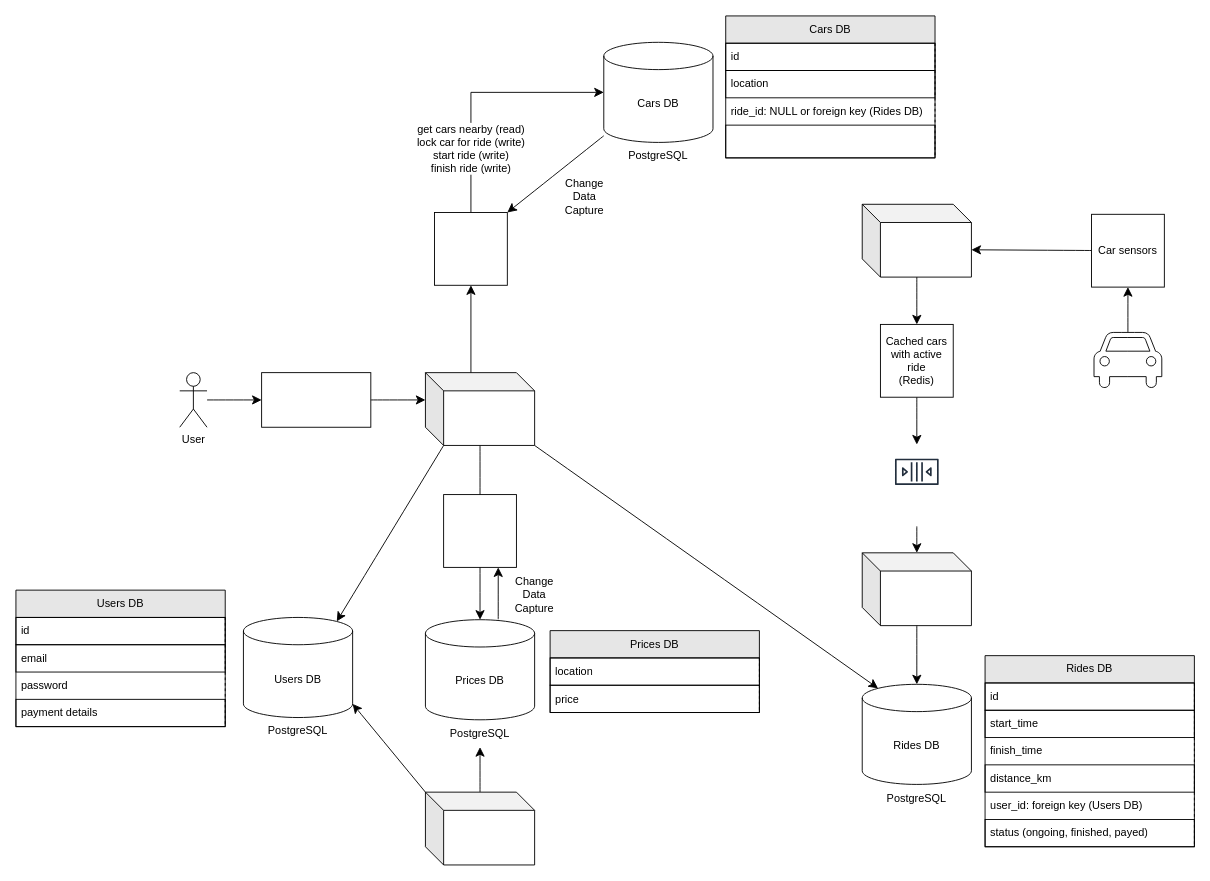
Some shapes in this 1210 by 881 pixel diagram are drawn without their labels. Here are the shapes that lost their labels. From the top down, the centre of each, then its label:
the point at 830,141: status (service, available, booked)
the point at 470,248: Cached available cars nearby (Redis)
the point at 916,240: Car Tracking Service
the point at 1127,360: Car
the point at 316,399: Load Balancer
the point at 480,408: Car Booking Service
the point at 916,471: Kafka Queue
the point at 479,530: Prices Cache (Redis)
the point at 916,589: Ride Tracking Service
the point at 480,828: Price Estimation Service
